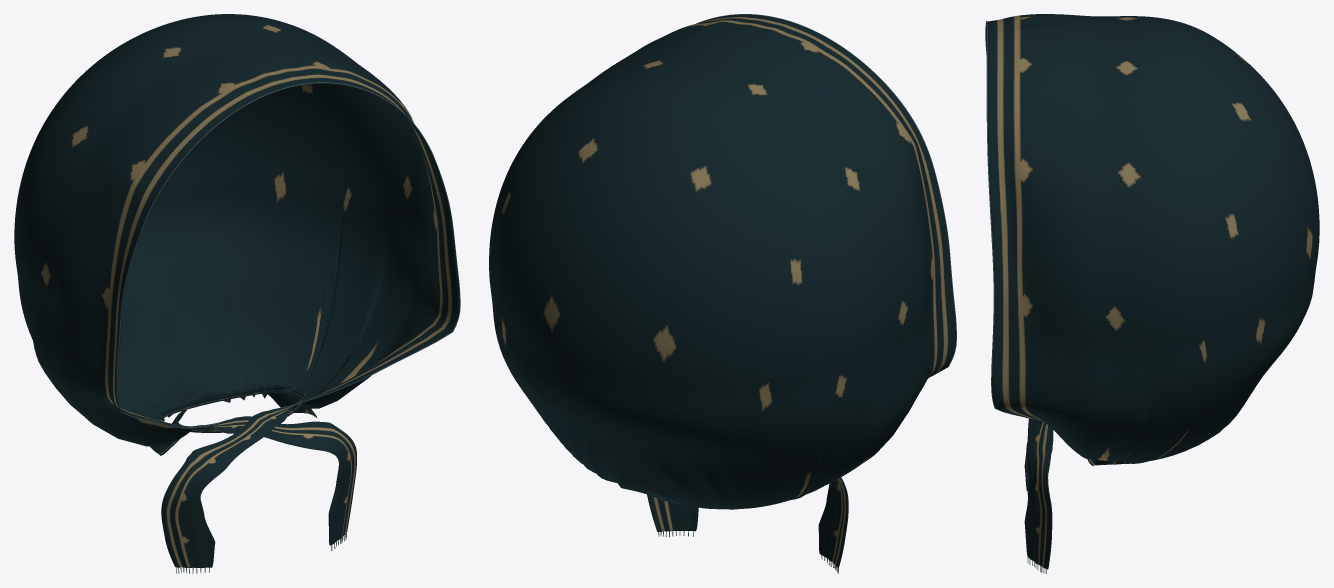
The model's file is Masculine-Masculine-taper-tank-pashmina250-headgear-577bc44d.glb.
3 renders of one model, left to right at view 1: azimuth 30°, elevation 25°; view 2: azimuth 150°, elevation 25°; view 3: azimuth 270°, elevation 25°, orthographic. The views are drawn at different scales.
Visible parts, largest first — view 1: 226 headgear / Headwear / continuous woven pashmina239, 226 headgear / Headwear / face edge239; view 2: 226 headgear / Headwear / continuous woven pashmina239, 226 headgear / Headwear / face edge239; view 3: 226 headgear / Headwear / continuous woven pashmina239, 226 headgear / Headwear / face edge239.
Part boxes in pixels (x1,y1,x2,y2): 226 headgear / Headwear / continuous woven pashmina239: (14, 14, 459, 567); 226 headgear / Headwear / face edge239: (116, 82, 460, 428); 226 headgear / Headwear / continuous woven pashmina239: (489, 14, 955, 567); 226 headgear / Headwear / face edge239: (696, 14, 956, 376); 226 headgear / Headwear / continuous woven pashmina239: (986, 14, 1319, 569); 226 headgear / Headwear / face edge239: (985, 21, 1041, 420).
Bounding box in the file's own units: 1.07 × 1.41 × 0.8512.
Materials: 3 (1 with a texture image).
